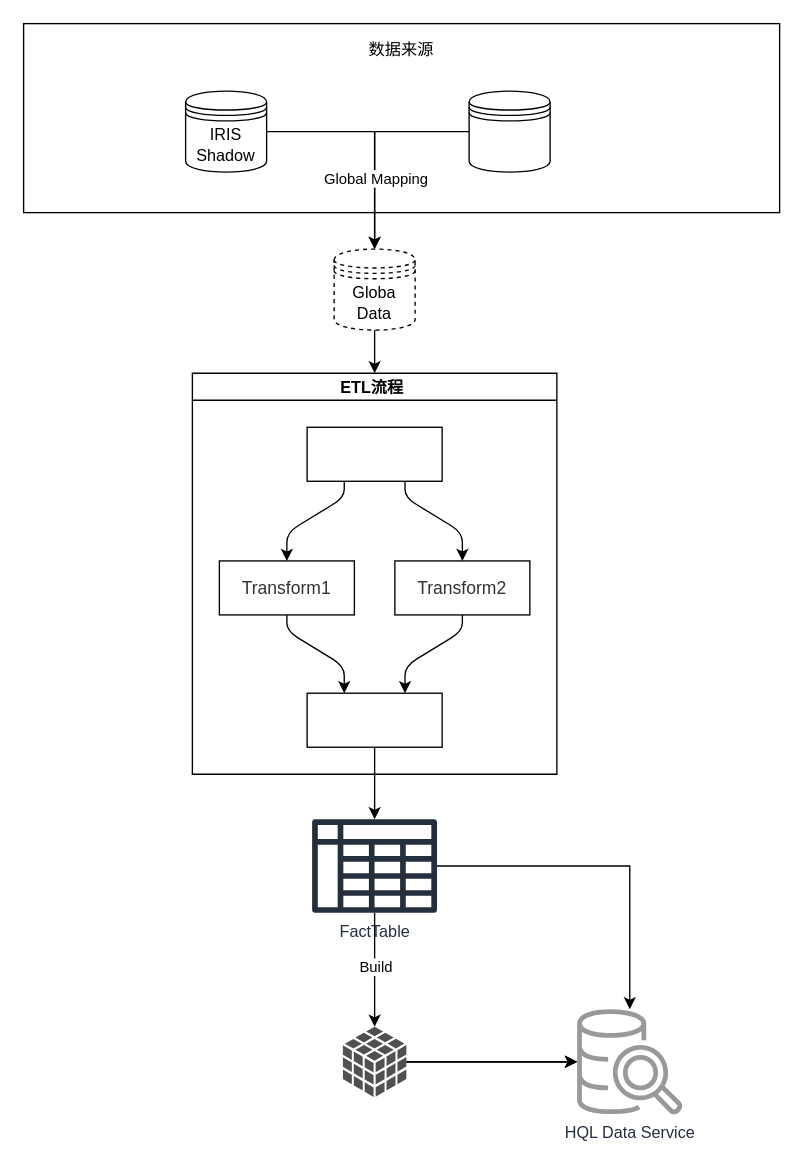
The diagram is 803 pixels wide and 1166 high, and some of its shapes have lost their labels. The centre of each missing label's shape, as x and y in pixels:
Database Cube Model: point (374, 1061)
Extract: point (374, 453)
LIS Shadow: point (509, 131)
Load: point (374, 719)
